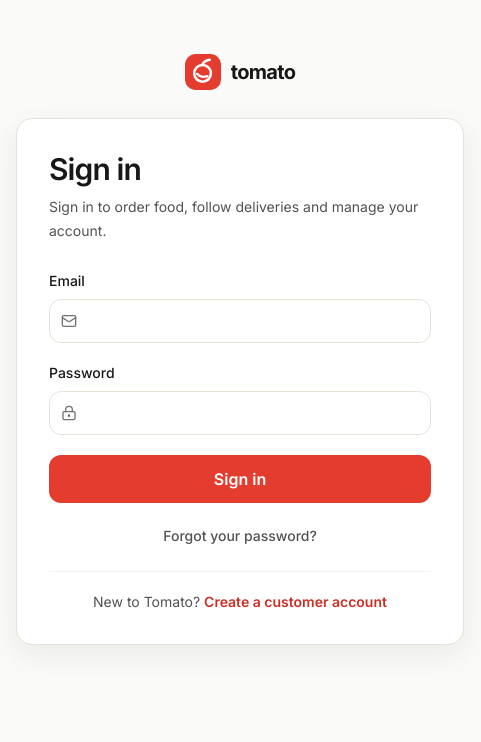
LoginPage › shows a human-readable authentication error
Type "wrong@example.com" into the field labelled "Email" at (240, 320), box [49,298,431,342]
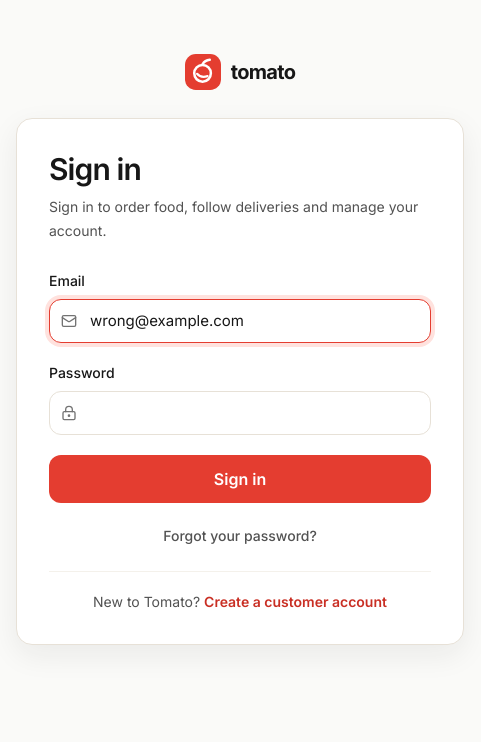
Type "password@123" into the password field labelled "Password" at (240, 412), box [49,390,431,434]
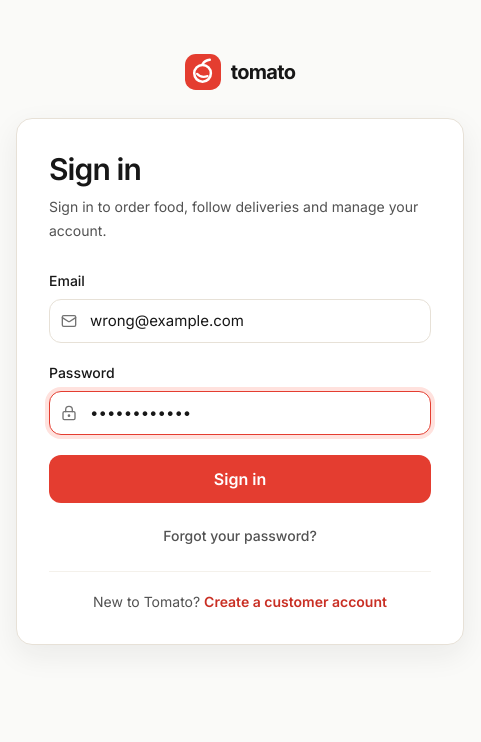
Click the button "Sign in" at (240, 478), box [49,454,431,502]
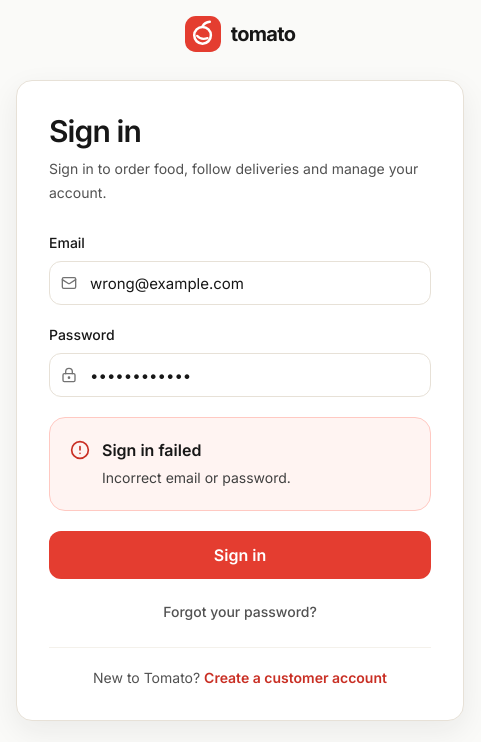
Check: the text "Incorrect email or password." is shown, box [102,469,291,486]
